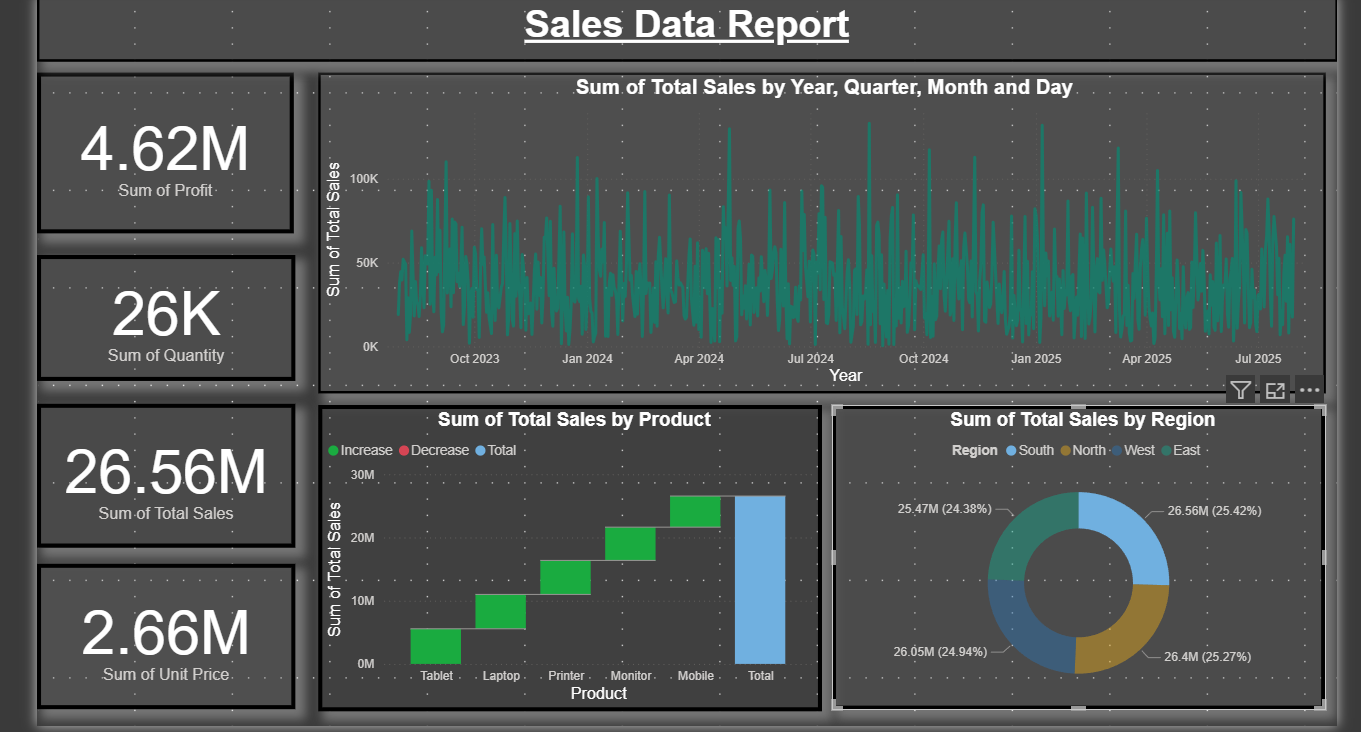

This screenshot's page, from the dashboard's own definition file:
{"tool":"powerbi","page":{"name":"Sales Data Report","canvas":[1280,720],"ordinal":0},"visuals":[{"type":"card","fields":{"Values":["Sum(sales_10000_records.Profit)"]},"box":[0,76.1,253.2,158],"z":0},{"type":"card","fields":{"Values":["Sum(sales_10000_records.Quantity)"]},"box":[0,256.1,254.6,124.4],"z":1000},{"type":"card","fields":{"Values":["Sum(sales_10000_records.Total Sales)"]},"box":[0,402.4,254.6,142],"z":2000},{"type":"card","fields":{"Values":["Sum(sales_10000_records.Unit Price)"]},"box":[0,560.5,254.6,143.4],"z":3000},{"type":"lineChart","fields":{"Y":["Sum(sales_10000_records.Total Sales)"],"Category":["sales_10000_records.Order Date.Variation.Date Hierarchy.Year","sales_10000_records.Order Date.Variation.Date Hierarchy.Quarter","sales_10000_records.Order Date.Variation.Date Hierarchy.Month","sales_10000_records.Order Date.Variation.Date Hierarchy.Day"]},"box":[276.6,76.1,992.2,316.1],"z":4000},{"type":"donutChart","fields":{"Category":["sales_10000_records.Region"],"Y":["Sum(sales_10000_records.Total Sales)"]},"box":[782.9,403.9,485.9,300],"z":5000},{"type":"textbox","box":[0,0,1280.5,65.9],"z":6000},{"type":"waterfallChart","fields":{"Category":["sales_10000_records.Product"],"Y":["Sum(sales_10000_records.Total Sales)"]},"box":[276.6,403.9,496.1,301.5],"z":7000}]}

Visuals, with their boxes in screenshot pixels (x1, y1, x2, y2):
card - Sum(sales_10000_records.Profit): [left=39, top=73, right=293, bottom=232]
card - Sum(sales_10000_records.Quantity): [left=39, top=254, right=295, bottom=379]
card - Sum(sales_10000_records.Total Sales): [left=39, top=401, right=295, bottom=544]
card - Sum(sales_10000_records.Unit Price): [left=39, top=560, right=295, bottom=704]
lineChart - Sum(sales_10000_records.Total Sales) x sales_10000_records.Order Date.Variation.Date Hierarchy.Year: [left=317, top=73, right=1314, bottom=391]
donutChart - sales_10000_records.Region x Sum(sales_10000_records.Total Sales): [left=826, top=402, right=1314, bottom=704]
textbox: [left=39, top=0, right=1326, bottom=63]
waterfallChart - sales_10000_records.Product x Sum(sales_10000_records.Total Sales): [left=317, top=402, right=815, bottom=705]
